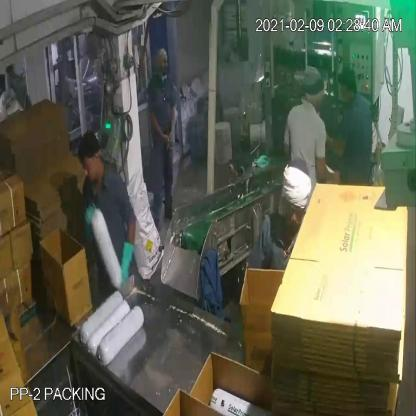glove: (116, 229, 137, 294), (82, 198, 98, 250)
no_glove: (145, 107, 172, 148), (165, 100, 179, 144)
